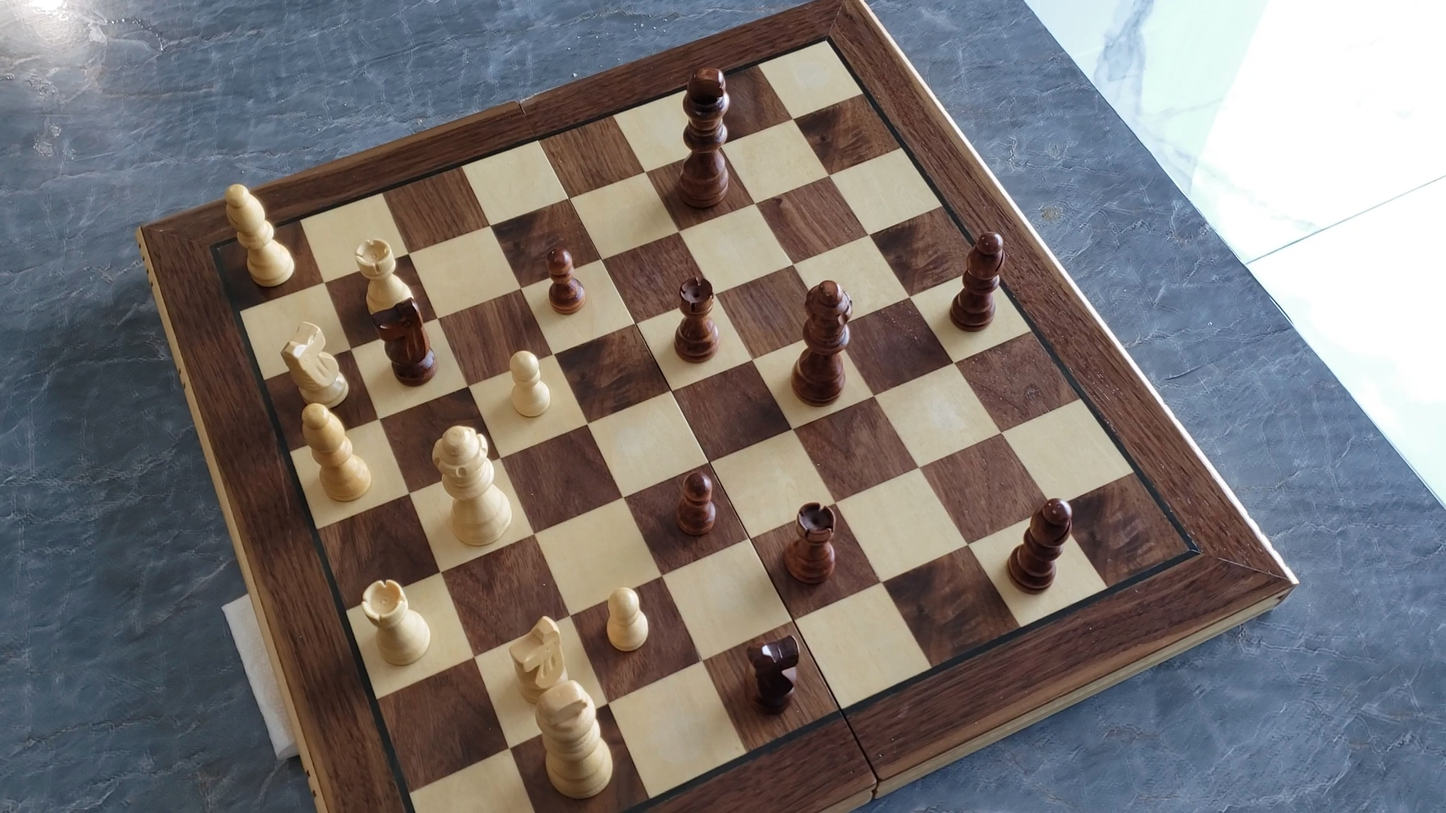black-bishop: (943, 226, 1015, 342), (1004, 494, 1076, 595)
black-king: (676, 62, 734, 211)
black-knight: (371, 295, 438, 387), (746, 631, 805, 716)
black-pawn: (673, 463, 721, 540), (543, 243, 587, 317)
black-queen: (785, 271, 859, 414)
black-rook: (782, 499, 842, 588), (672, 274, 720, 365)
white-bishop: (216, 180, 304, 294), (295, 401, 375, 506)
white-king: (529, 677, 618, 801)
white-knight: (278, 318, 353, 412), (506, 611, 570, 705)
white-pawn: (599, 581, 655, 656), (503, 345, 555, 421)
white-queen: (415, 421, 518, 549)
white-rook: (358, 575, 435, 671), (351, 234, 414, 321)
